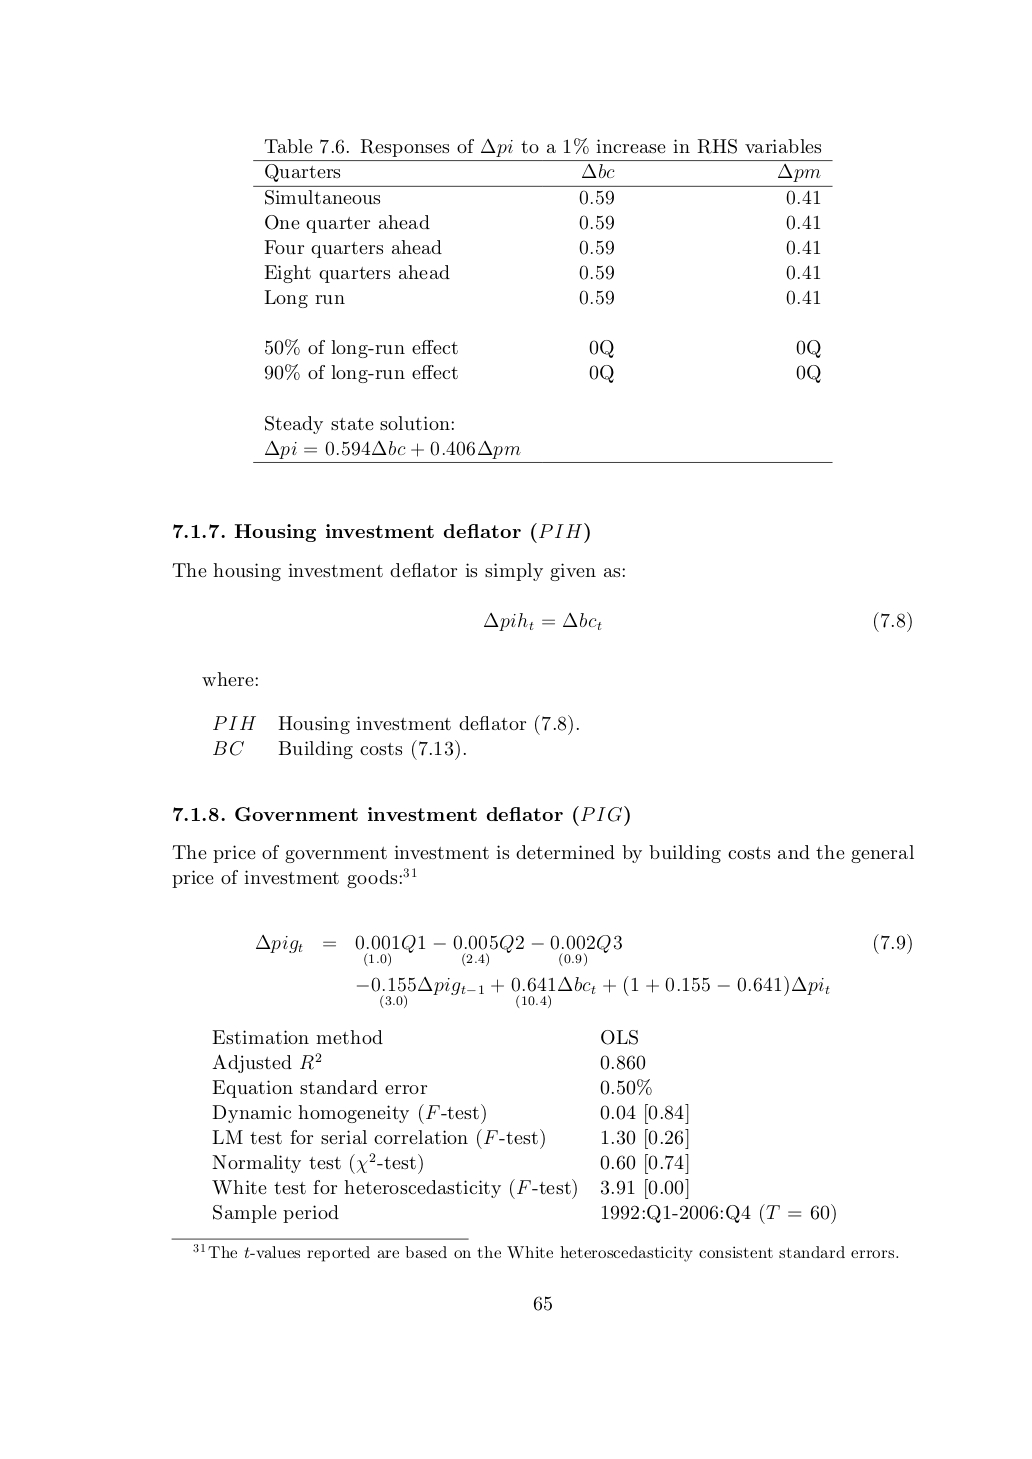Table: (254, 160, 832, 462), (212, 1030, 835, 1223)
formula: (256, 933, 911, 967), (356, 975, 829, 1009), (484, 611, 911, 632)
